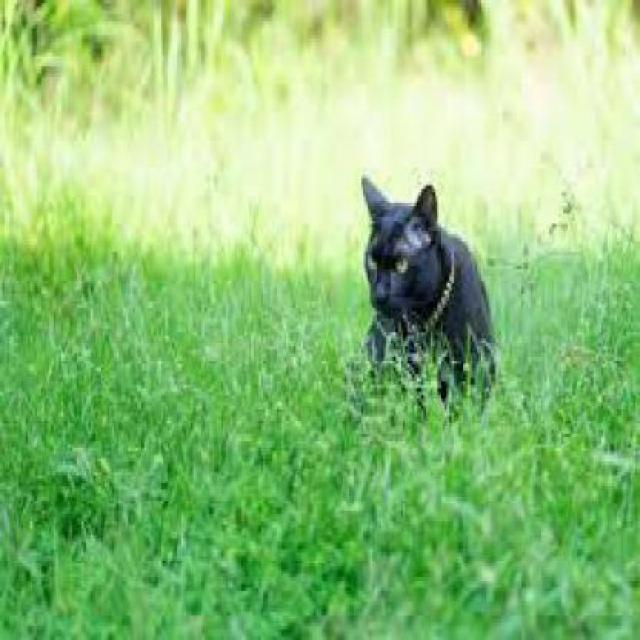animals: (340, 168, 494, 388)
